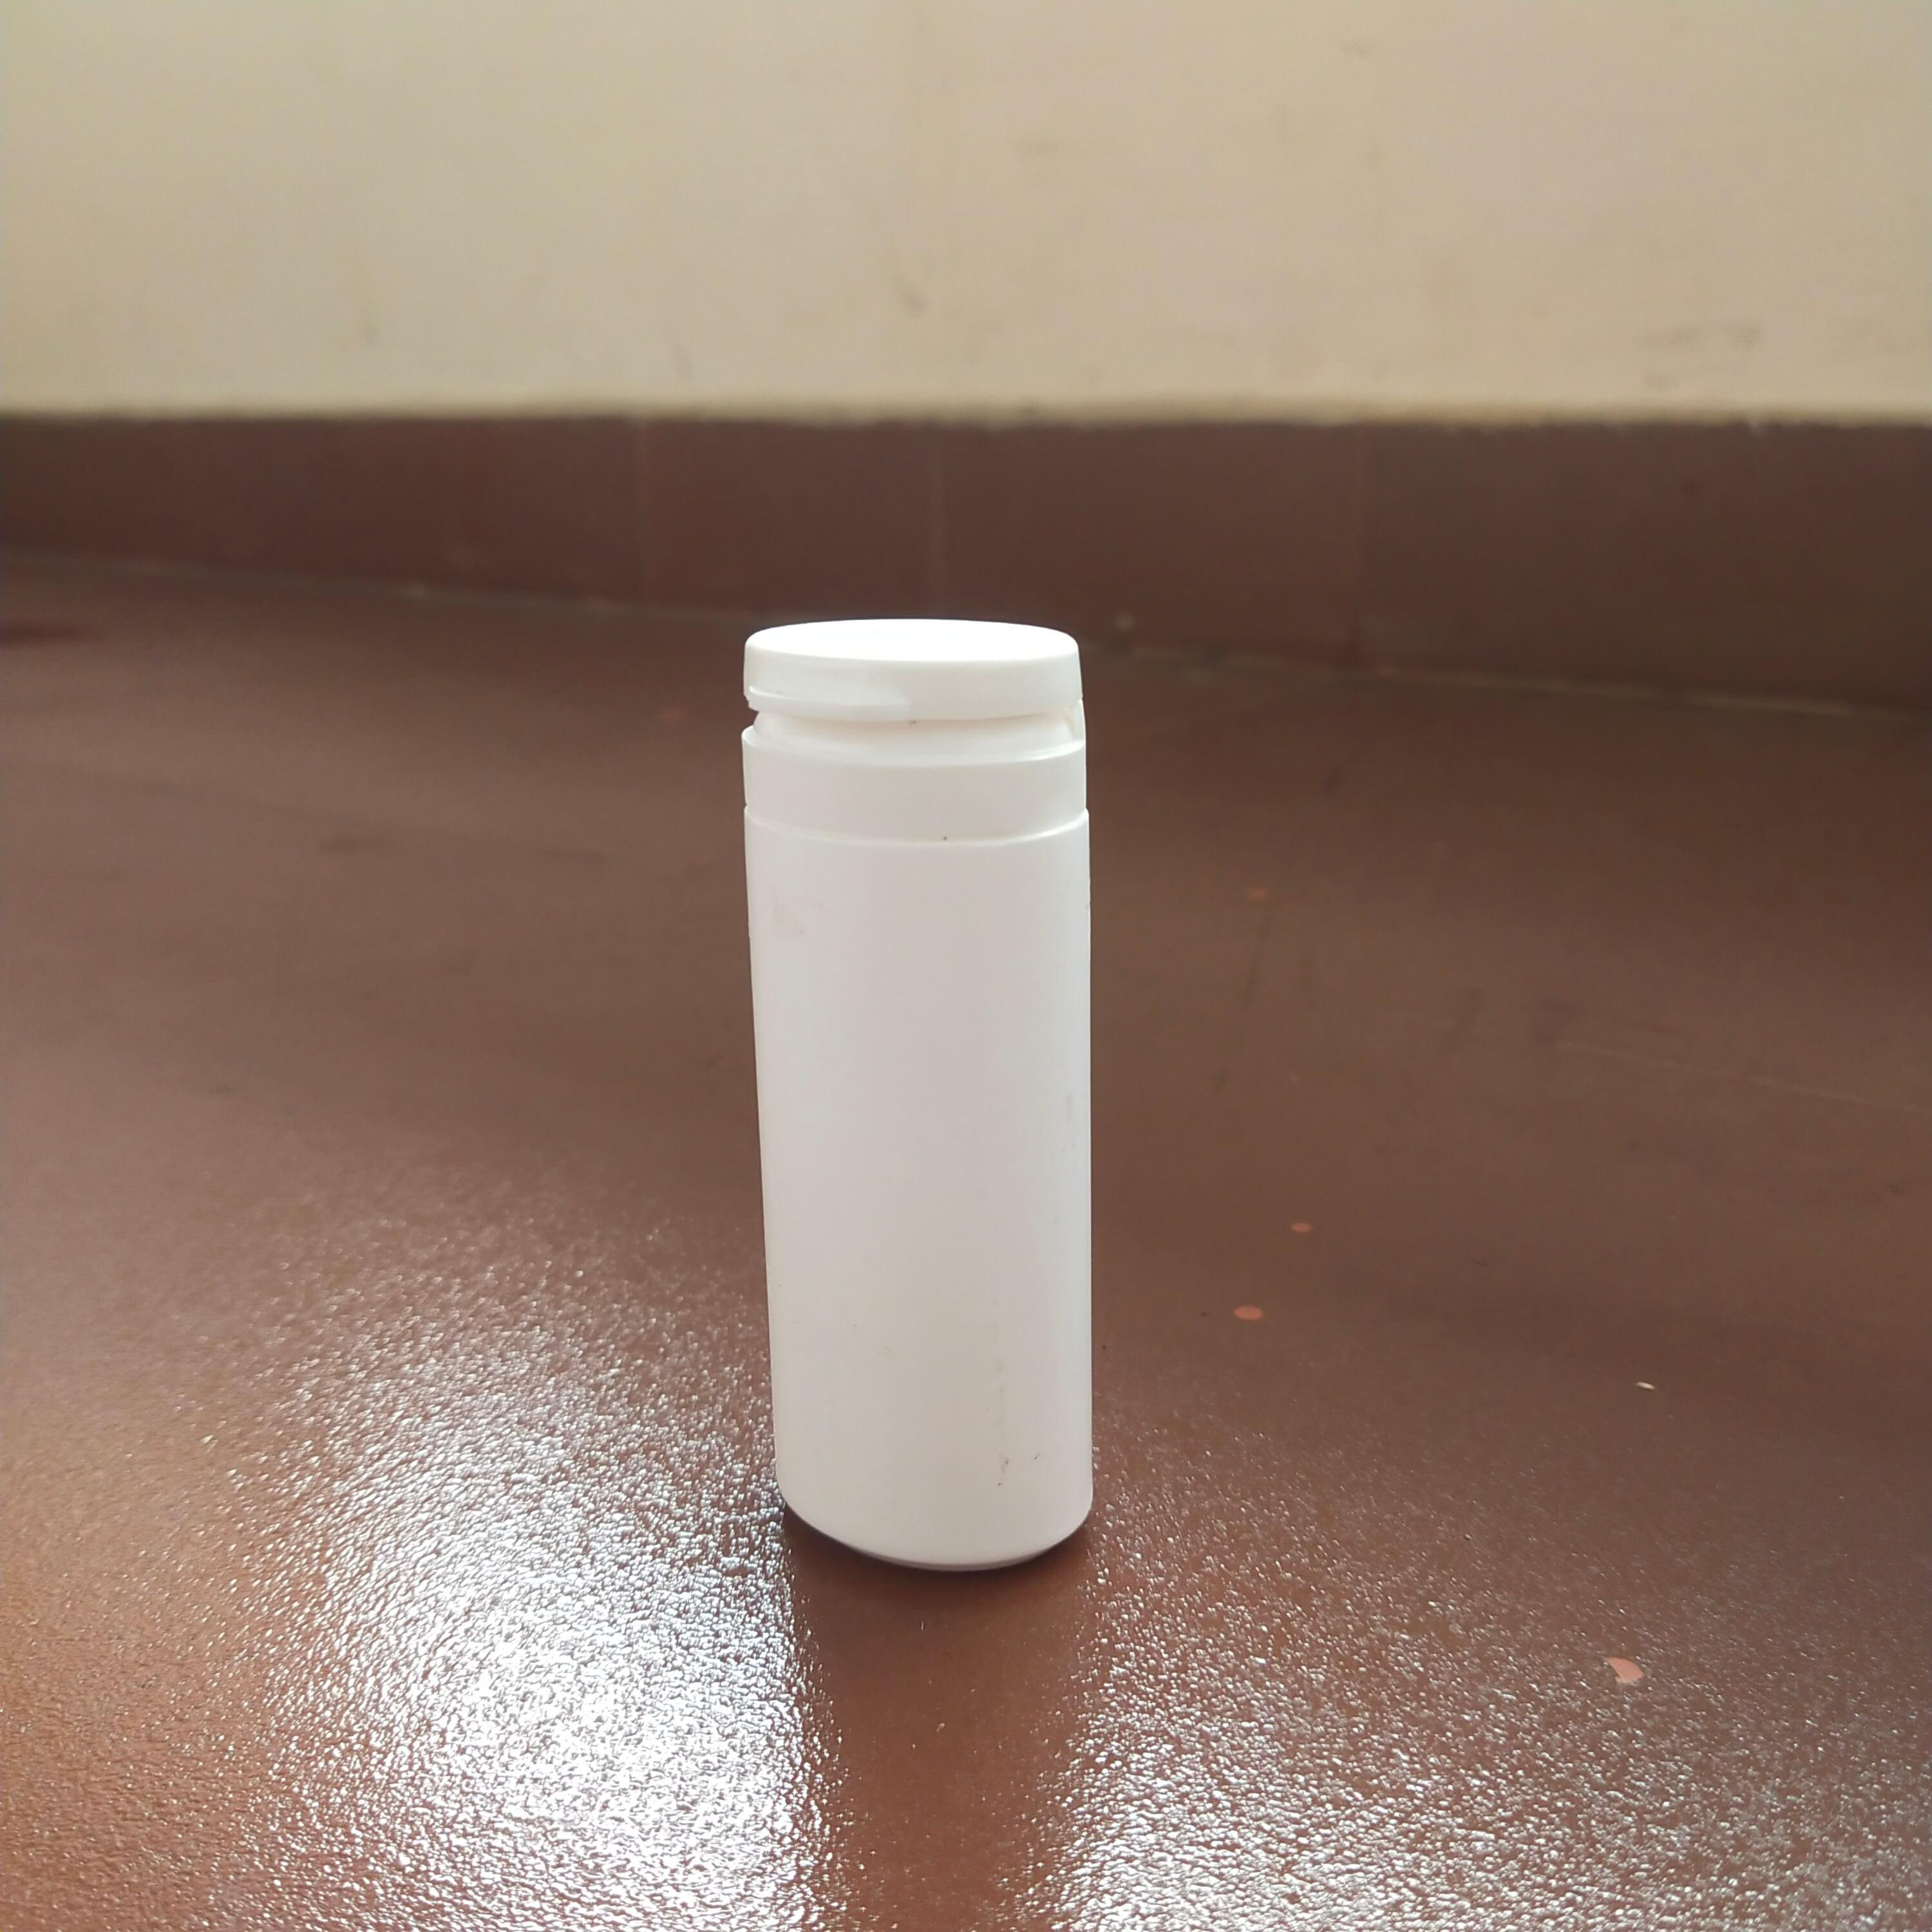plastic box: (695, 593, 1182, 1608)
